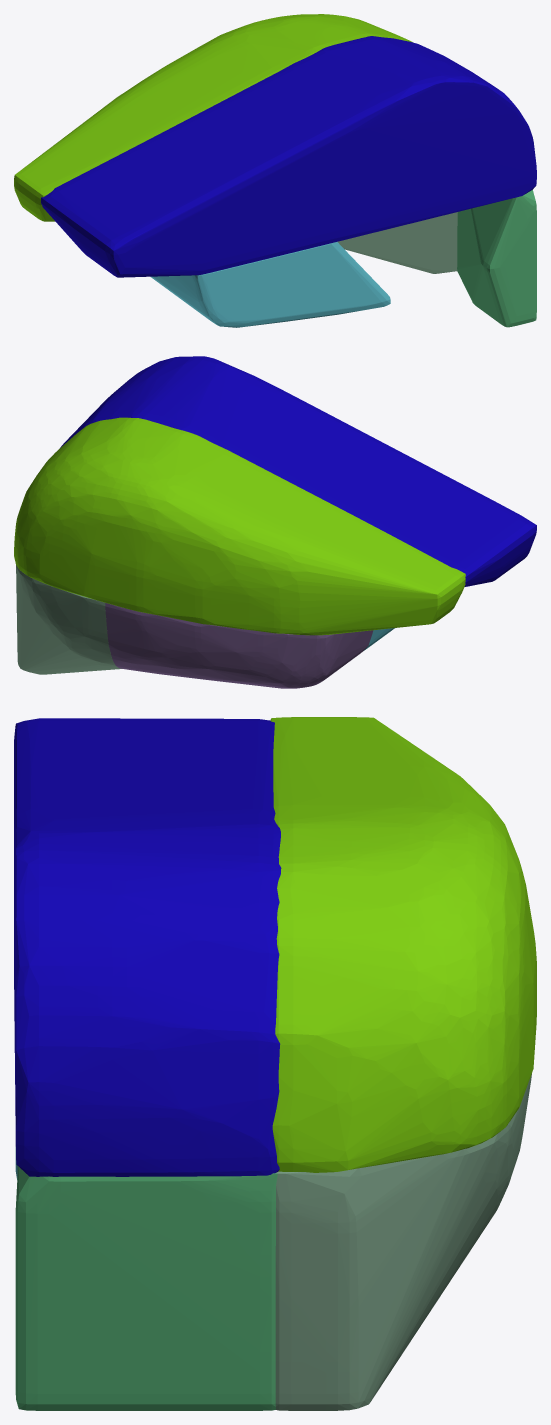
Rendered from shoulder-roll-housing_split.obj.
3 renders of one model, top to bottom at view 1: azimuth 30°, elevation 25°; view 2: azimuth 150°, elevation 25°; view 3: azimuth 270°, elevation 25°, orthographic. The views are drawn at different scales.
Parts seen in each view (by area): view 1: geometry_5, geometry_4, geometry_2, geometry_3, geometry_0; view 2: geometry_4, geometry_5, geometry_1, geometry_0; view 3: geometry_5, geometry_4, geometry_3, geometry_0.
Boxes of the visible parts, box(x1,y1,x2,y2) form: geometry_5: box(41, 36, 536, 277); geometry_4: box(14, 14, 412, 221); geometry_2: box(150, 242, 390, 327); geometry_3: box(457, 190, 536, 327); geometry_0: box(337, 212, 457, 273); geometry_4: box(14, 417, 465, 635); geometry_5: box(59, 356, 536, 586); geometry_1: box(105, 603, 373, 688); geometry_0: box(16, 565, 121, 674); geometry_5: box(14, 718, 281, 1176); geometry_4: box(270, 717, 536, 1172); geometry_3: box(15, 1166, 277, 1410); geometry_0: box(275, 1074, 531, 1410).
Bounding box in the file's own units: 0.1561 × 0.0924 × 0.0914.
